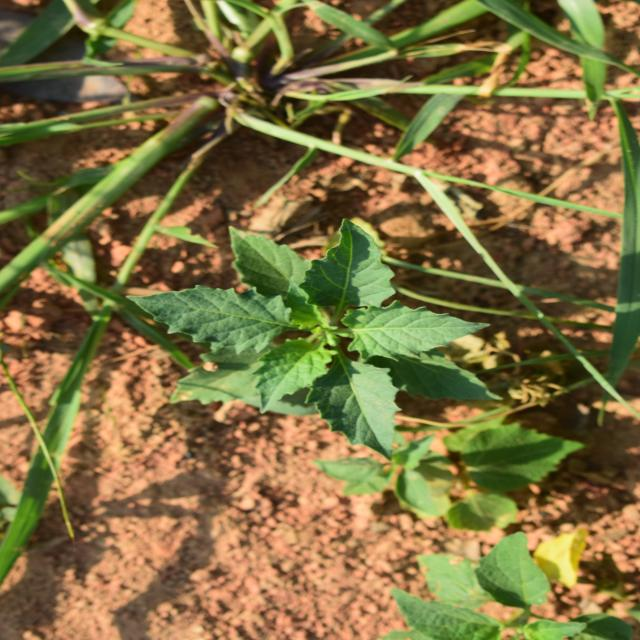Black_nightshade: (215, 141, 410, 444)
